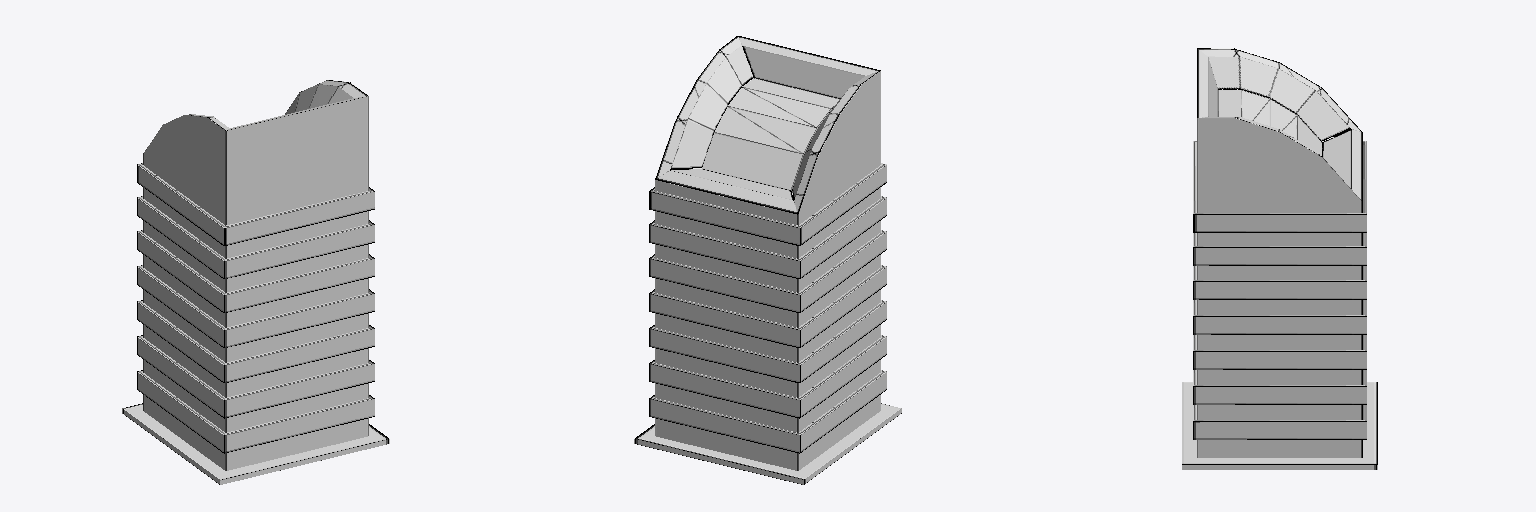
3 renders of one model, left to right at view 1: azimuth 30°, elevation 25°; view 2: azimuth 150°, elevation 25°; view 3: azimuth 270°, elevation 25°, orthographic.
Visible parts, largest first — view 1: Cube.007; view 2: Cube.007; view 3: Cube.007.
Part boxes in pixels (x1,y1,x2,y2): Cube.007: (122,80,389,484); Cube.007: (634,36,901,484); Cube.007: (1182,48,1377,469).
Size of the model in its own units: 3.58 by 6.98 by 3.58.
1 materials, 1 textured.